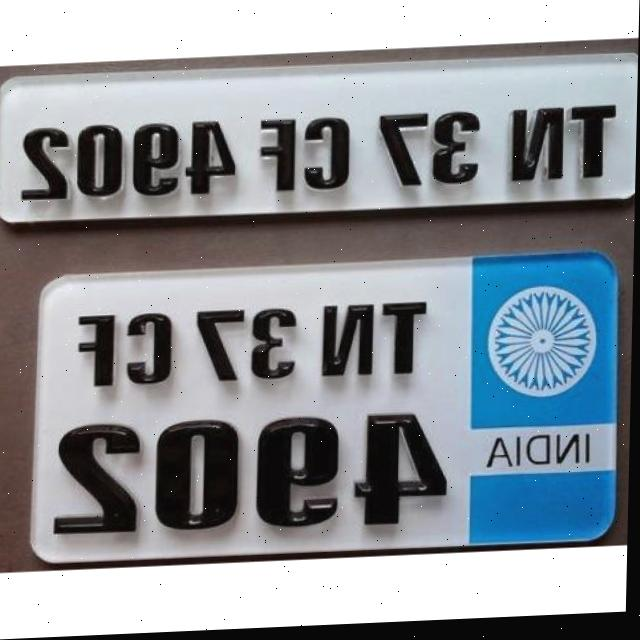plate: (16, 247, 630, 570), (0, 49, 639, 236)
